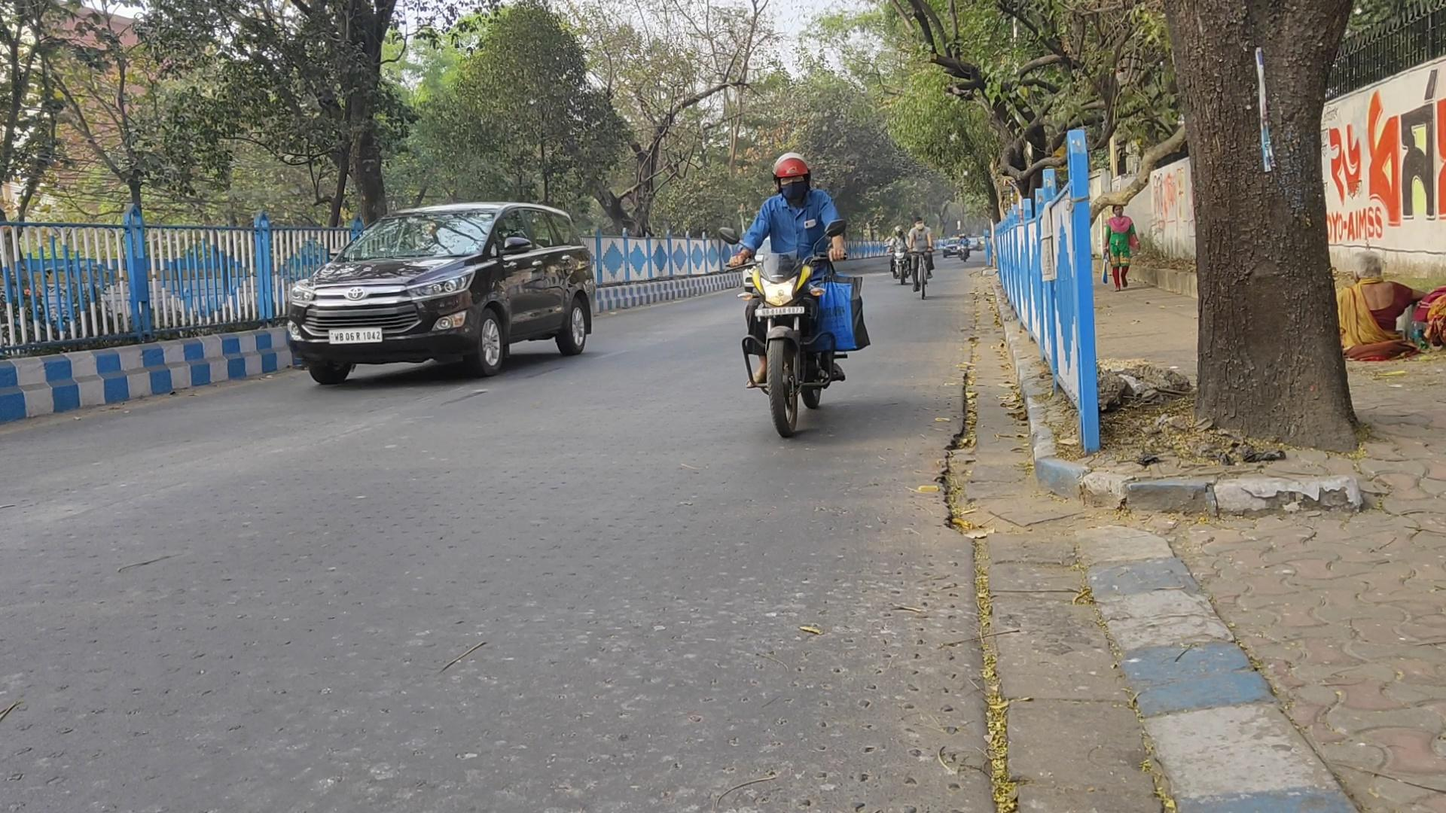bike: (721, 154, 862, 439), (908, 215, 935, 301), (883, 224, 913, 288), (956, 233, 971, 263)
car: (287, 202, 595, 386), (941, 236, 969, 258)
